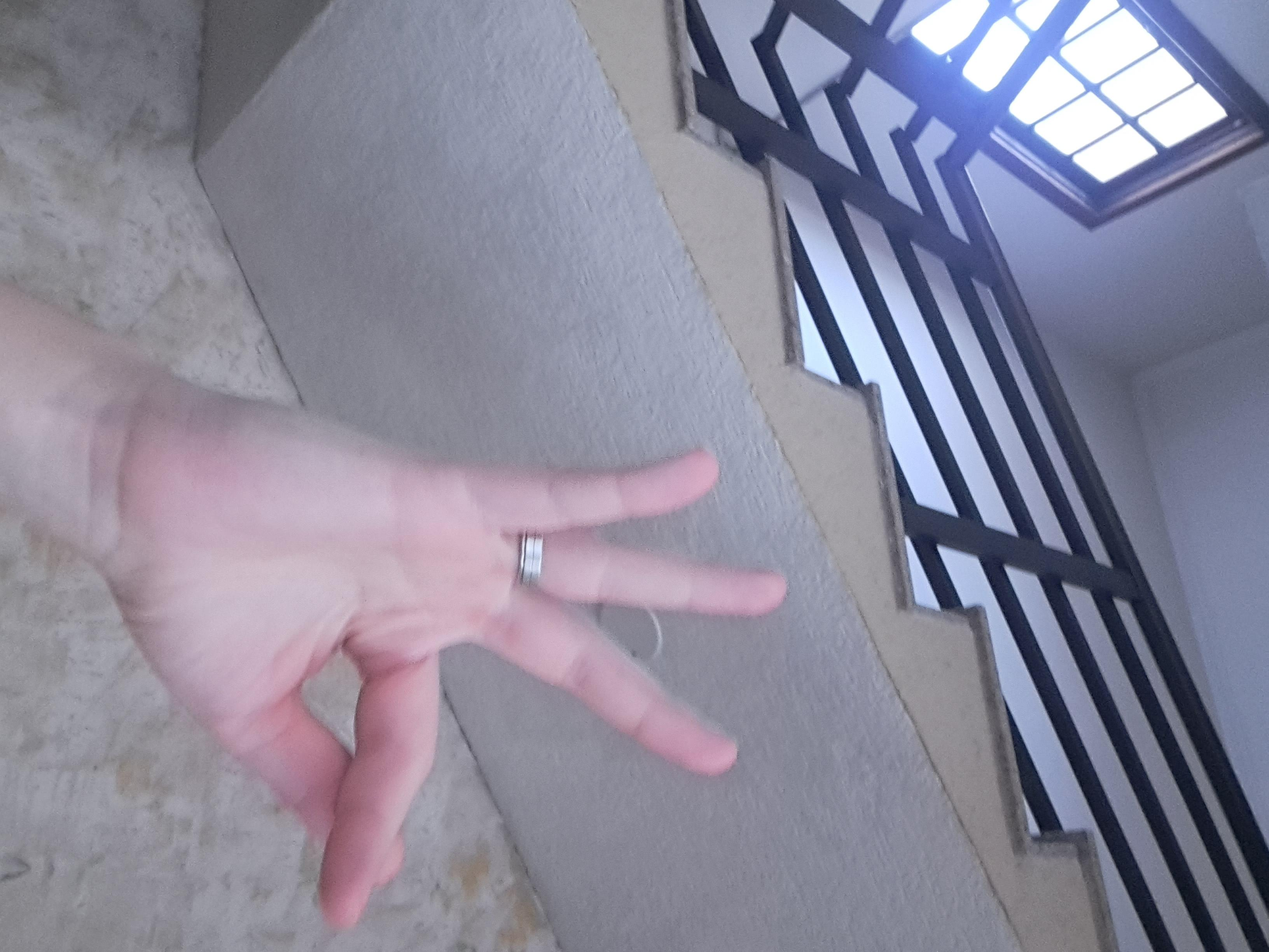F: (508, 356, 1244, 881)
